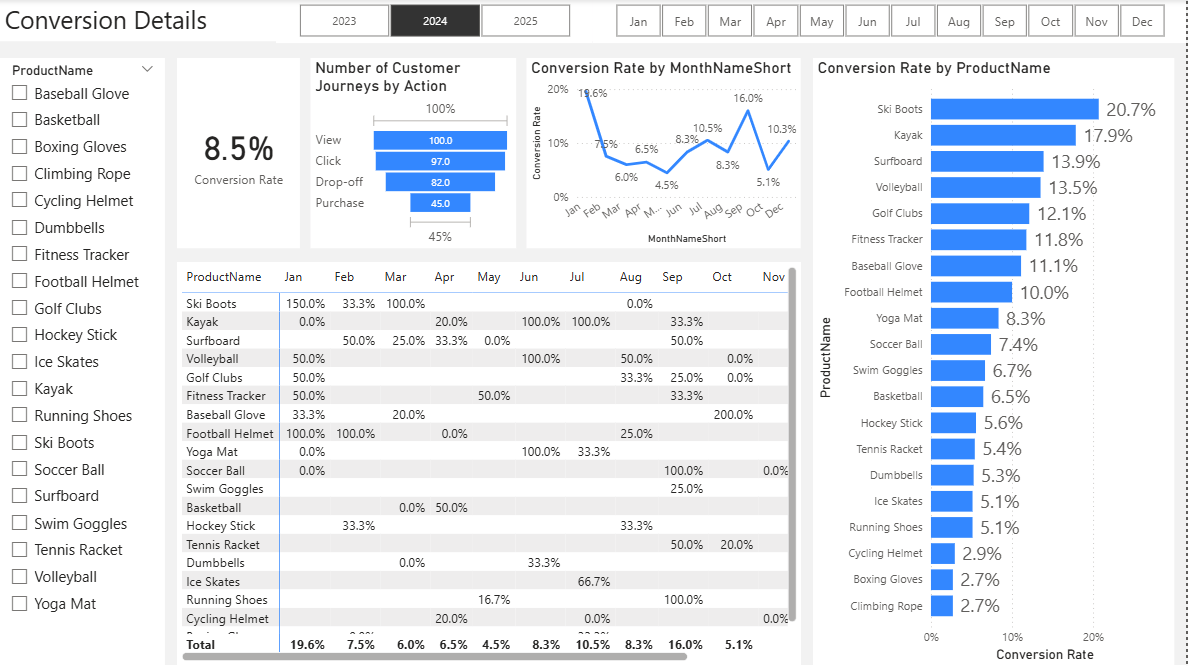

The page's visual inventory and layout, read from the dashboard file:
{"tool":"powerbi","page":{"name":"Conversion Details ","canvas":[1280,720],"ordinal":1},"visuals":[{"type":"textbox","box":[0,0,1280.8,47],"z":0},{"type":"slicer","fields":{"Values":["dim_products.ProductName"]},"box":[0,64.8,178.1,655.8],"z":1000},{"type":"card","fields":{"Values":["_Calculations.Conversion Rate"]},"box":[191.1,64.8,132.8,205.6],"z":2000},{"type":"slicer","fields":{"Values":["Calendar.Year"]},"box":[297.9,0,341.7,48.6],"z":3000},{"type":"slicer","fields":{"Values":["Calendar.MonthNameShort"]},"box":[639.6,0,641.2,48.6],"z":4000},{"type":"lineChart","fields":{"Y":["_Calculations.Conversion Rate"],"Category":["Calendar.MonthNameShort"]},"box":[568.3,64.8,296.3,205.6],"z":5000},{"type":"clusteredBarChart","fields":{"Category":["dim_products.ProductName"],"Y":["_Calculations.Conversion Rate"]},"box":[877.6,64.8,390.2,655.8],"z":6000},{"type":"pivotTable","fields":{"Values":["_Calculations.Conversion Rate"],"Rows":["dim_products.ProductName"],"Columns":["Calendar.MonthNameShort"]},"box":[191.1,285,673.6,435.6],"z":7000},{"type":"funnel","fields":{"Category":["fact_customer_journey.Action"],"Y":["_Calculations.Number of Customer Journeys"]},"box":[335.2,64.8,221.8,205.6],"z":8000}]}

Visuals, with their boxes in screenshot pixels (x1, y1, x2, y2), scaled from the page's 1280x720 canvas onto the 1188x666 screenshot:
textbox: region(0, 0, 1187, 43)
slicer - dim_products.ProductName: region(0, 60, 165, 665)
card - _Calculations.Conversion Rate: region(177, 60, 301, 250)
slicer - Calendar.Year: region(276, 0, 594, 45)
slicer - Calendar.MonthNameShort: region(594, 0, 1187, 45)
lineChart - _Calculations.Conversion Rate x Calendar.MonthNameShort: region(527, 60, 802, 250)
clusteredBarChart - dim_products.ProductName x _Calculations.Conversion Rate: region(815, 60, 1177, 665)
pivotTable - _Calculations.Conversion Rate x dim_products.ProductName: region(177, 264, 803, 665)
funnel - fact_customer_journey.Action x _Calculations.Number of Customer Journeys: region(311, 60, 517, 250)
